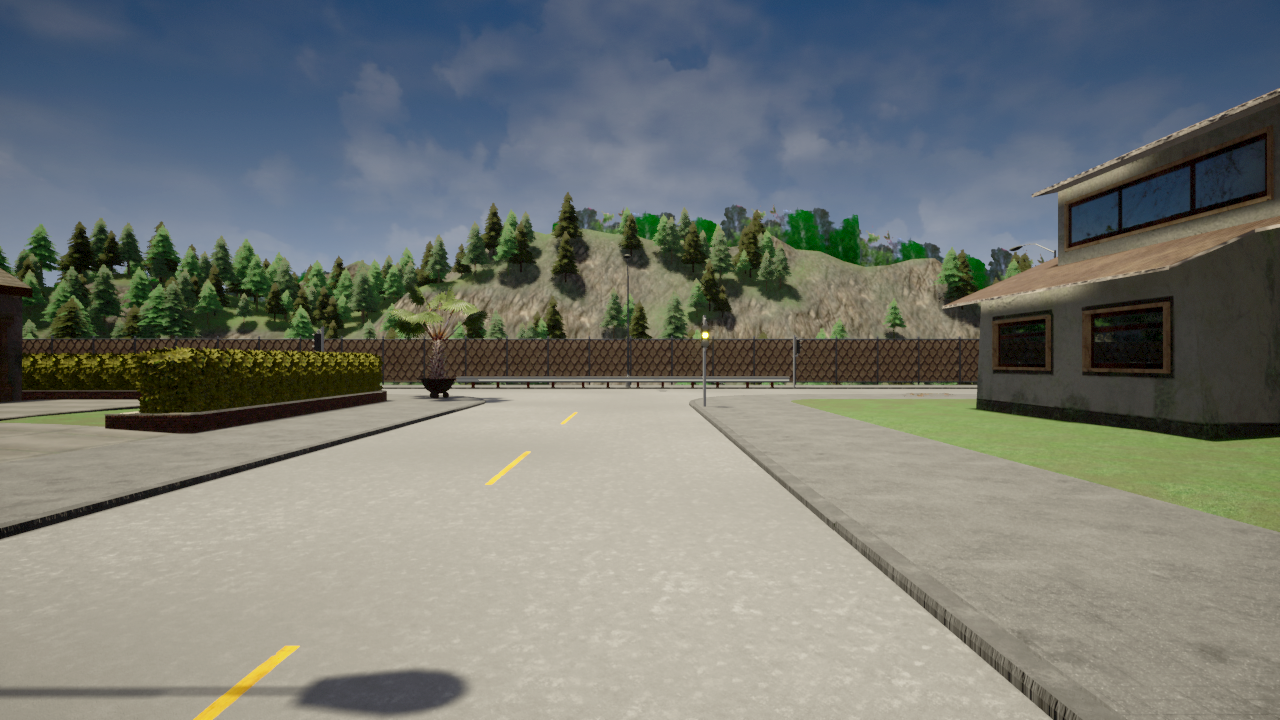yellow: (700, 322, 711, 348)
